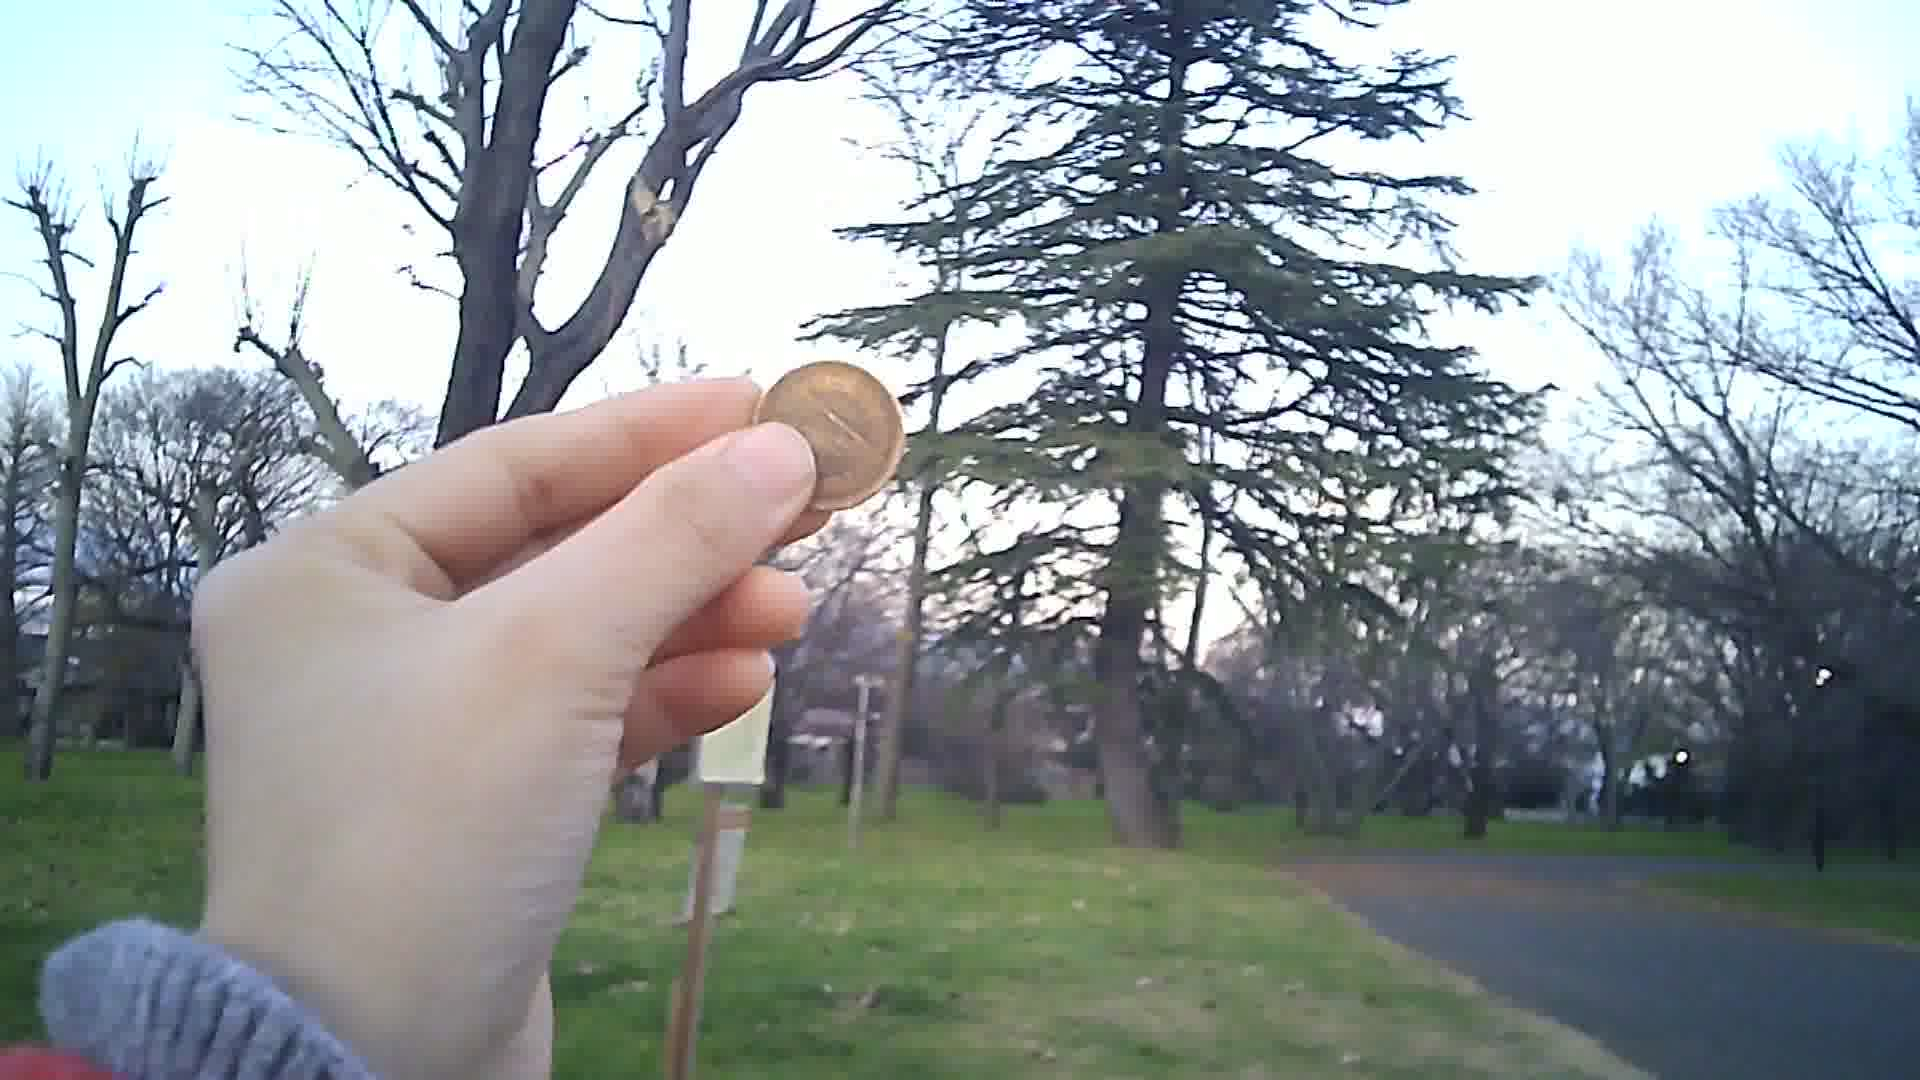10 Yen: (750, 360, 902, 513)
